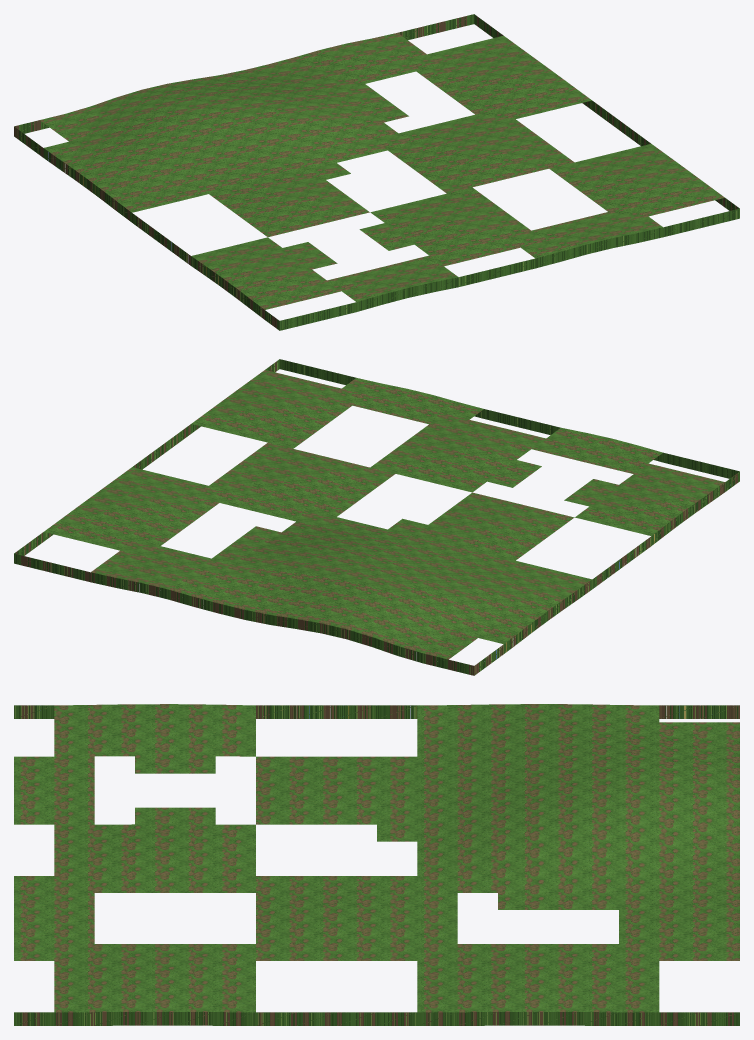
Rendered from rv_terrain_33.gltf.
3 renders of one model, top to bottom at view 1: azimuth 30°, elevation 25°; view 2: azimuth 150°, elevation 25°; view 3: azimuth 270°, elevation 25°, orthographic. The views are drawn at different scales.
Parts seen in each view (by area): view 1: RV_Terrain_33; view 2: RV_Terrain_33; view 3: RV_Terrain_33.
Boxes of the visible parts, left/top/right/bottom form: RV_Terrain_33: left=14, top=14, right=739, bottom=330; RV_Terrain_33: left=14, top=359, right=739, bottom=675; RV_Terrain_33: left=14, top=704, right=739, bottom=1025.
Bounding box in the file's own units: 72 × 3.43 × 72.
2 materials, 1 textured.
